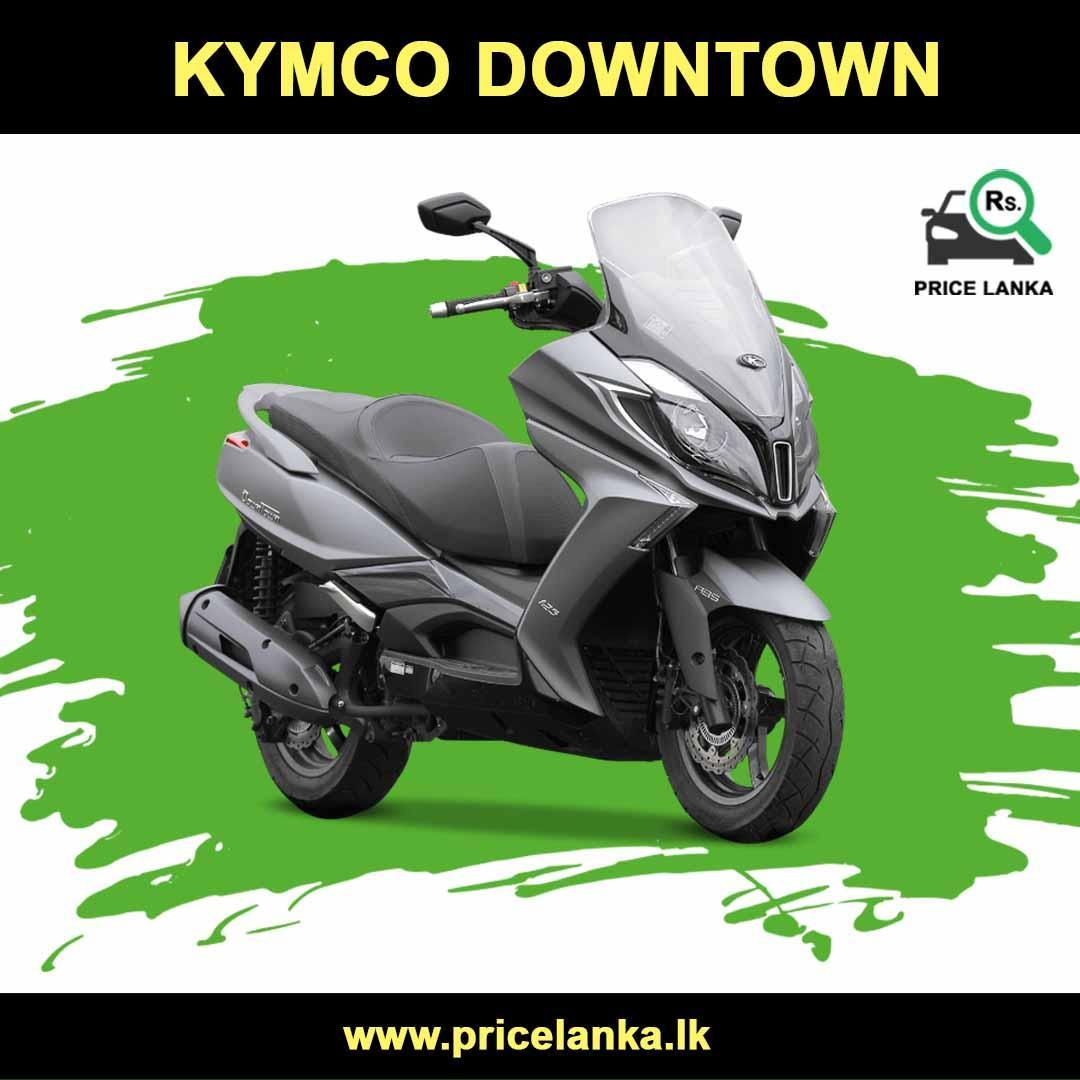motorbike: (176, 194, 846, 843)
